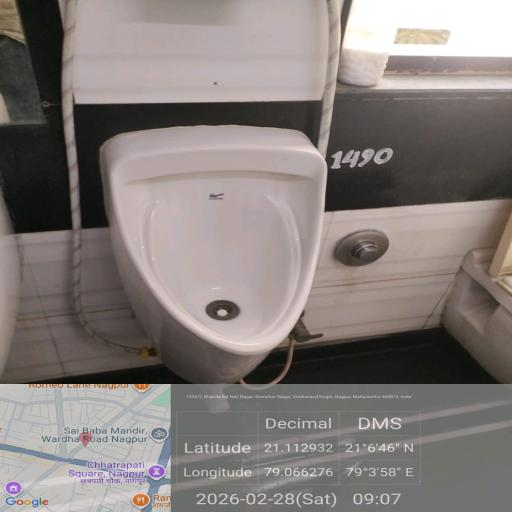clean_floor: (337, 108, 512, 373), (0, 58, 105, 372)
clean_urinal: (112, 122, 323, 371)
